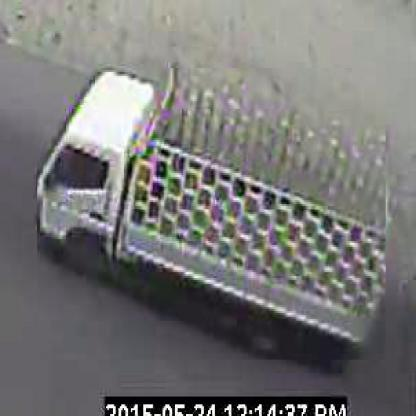truck: (38, 69, 388, 363)
